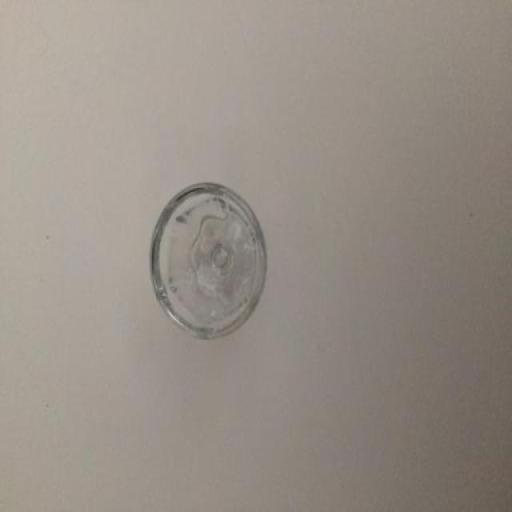glass: (137, 166, 276, 356)
